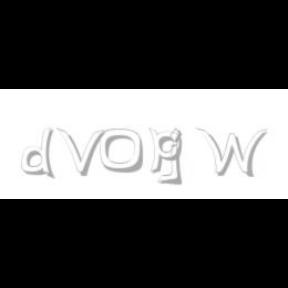O: (100, 128, 144, 174)
V: (57, 128, 105, 176)
W: (196, 128, 268, 178)
d: (22, 128, 58, 180)
j: (168, 128, 196, 186)
p: (148, 128, 186, 174)
